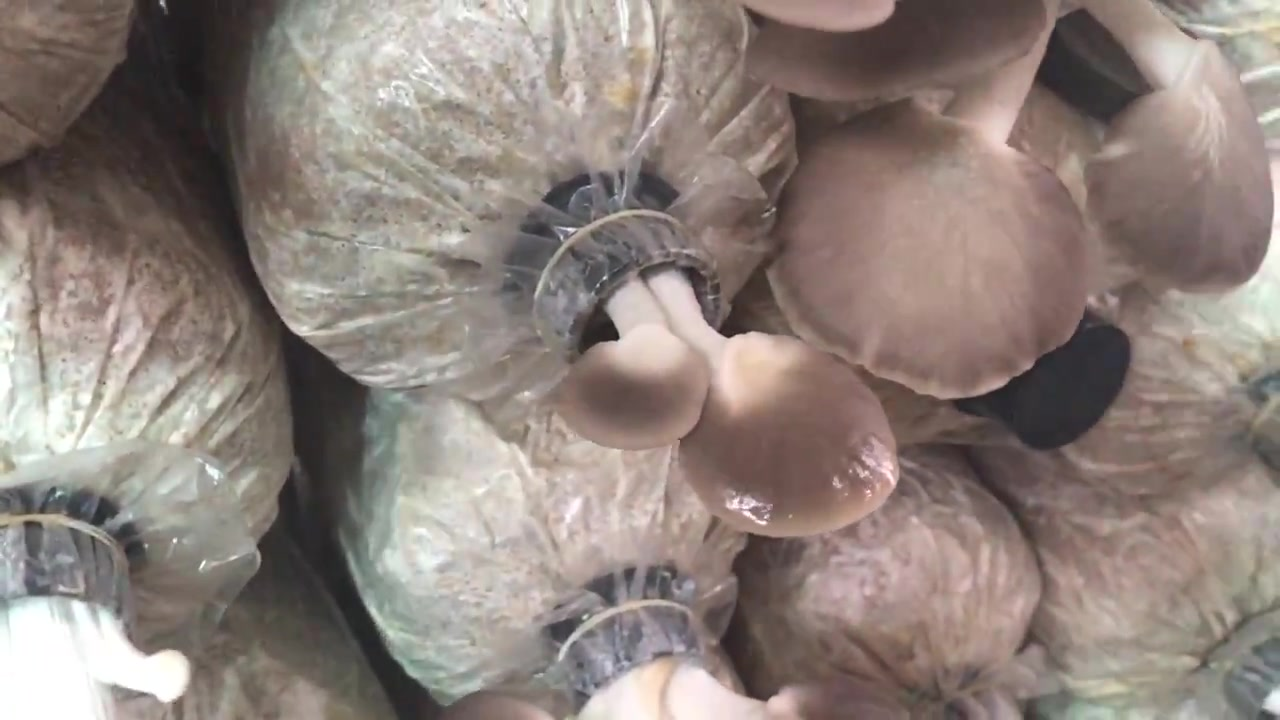nam: (768, 3, 1280, 403), (545, 214, 902, 543)
